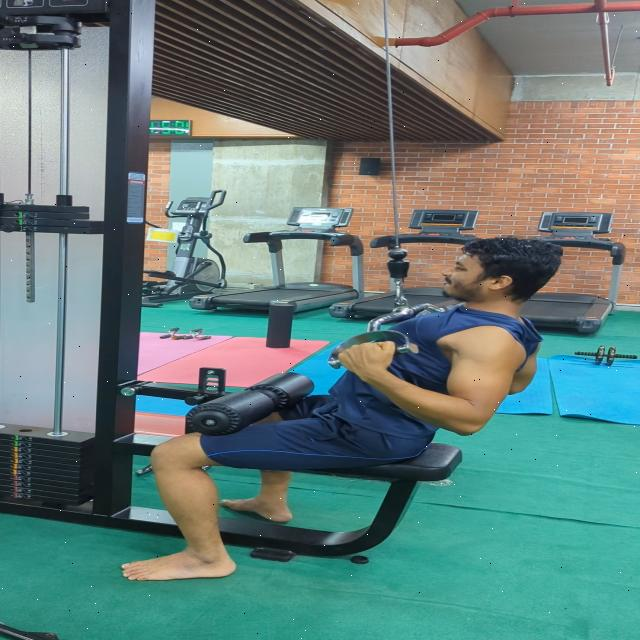Normal_LatPulldown: (80, 218, 590, 588)
